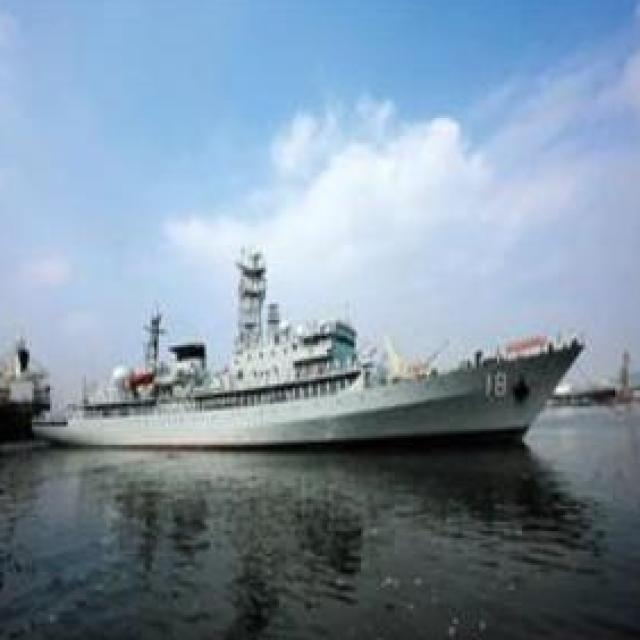navalvessels: (20, 220, 586, 481)
